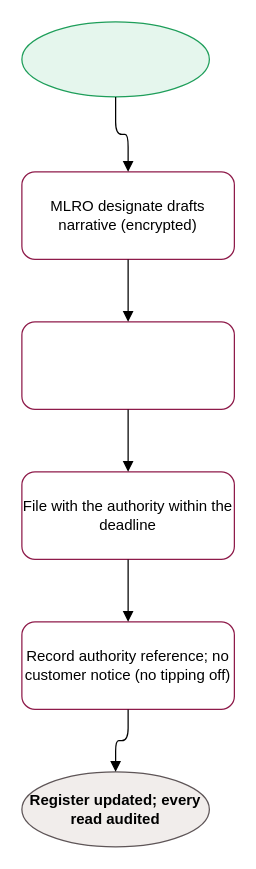
This 256x869 diagram has some shape labels left out. Each missing label, with the centre of its shape:
Case outcome: report: the point at 115,59
Second authorised reviewer approves: the point at 127,365
